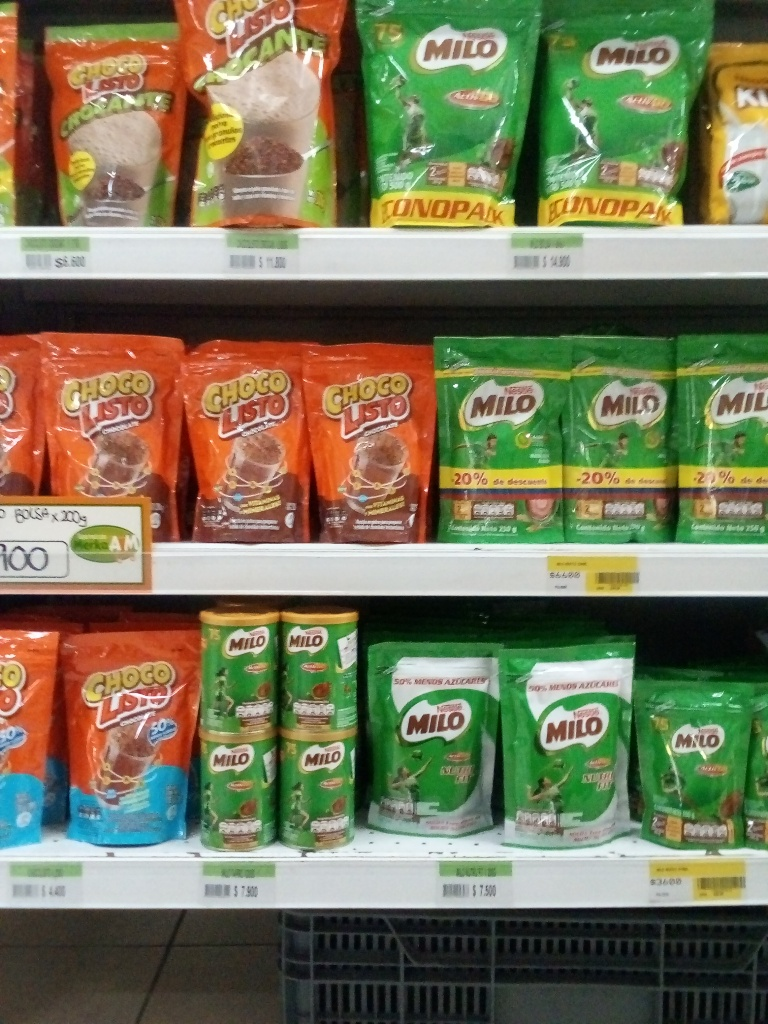COL0170102DYP25000: (45, 24, 184, 227)
COL0170102DYP50000: (177, 0, 351, 231)
COL0170103DYP20000: (302, 337, 438, 539)
COL0170104DYP20000: (58, 629, 199, 849)
COL0170203DYP10000: (631, 676, 751, 852)
COL0170203DYP25000: (675, 335, 767, 544)
COL0170203DYP50000: (539, 1, 719, 226)
COL0170203LAT20000: (276, 611, 356, 734)
COL0170205DYP20000: (497, 642, 642, 853)
